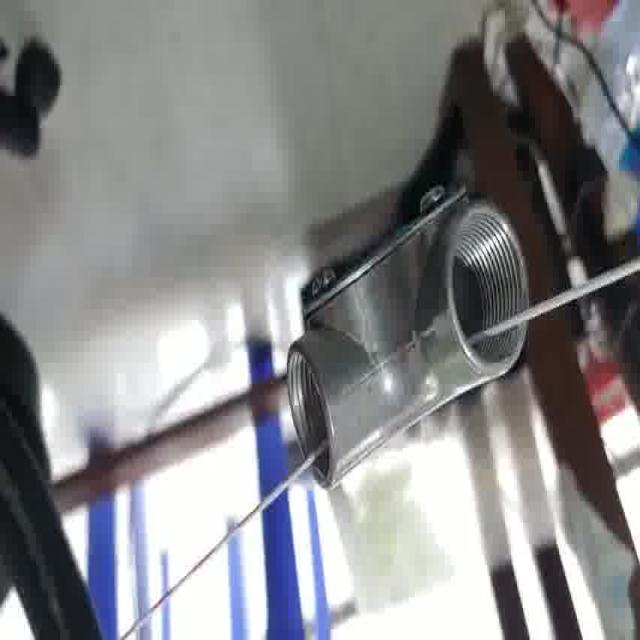Dry: (284, 182, 530, 484)
